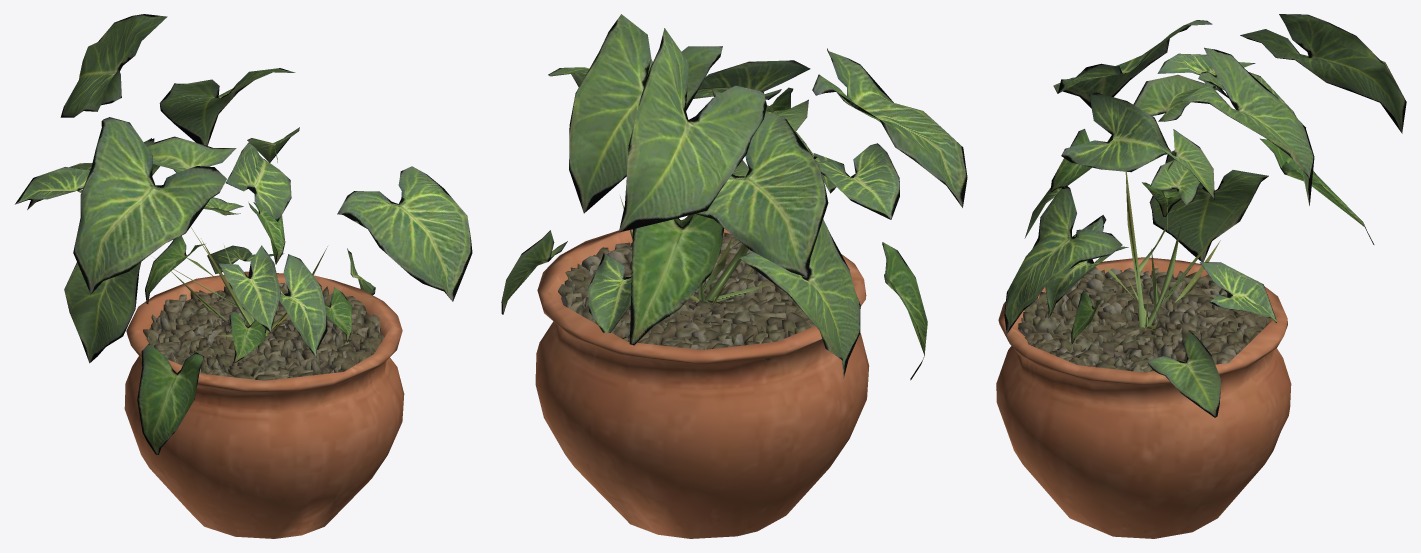
File: plante_syngonium.glb
The picture shows the model from 3 angles, left to right: view 1: azimuth 30°, elevation 25°; view 2: azimuth 150°, elevation 25°; view 3: azimuth 270°, elevation 25°; orthographic projection. The views are drawn at different scales.
Visible parts, largest first — view 1: potted_plant_02_leaves, potted_plant_02_pot, potted_plant_02_dirt; view 2: potted_plant_02_leaves, potted_plant_02_pot, potted_plant_02_dirt; view 3: potted_plant_02_leaves, potted_plant_02_pot, potted_plant_02_dirt.
Part boxes in pixels (x1,y1,x2,y2): potted_plant_02_leaves: (15, 14, 472, 454); potted_plant_02_pot: (124, 271, 404, 538); potted_plant_02_dirt: (143, 283, 383, 380); potted_plant_02_leaves: (501, 14, 967, 380); potted_plant_02_pot: (535, 228, 869, 538); potted_plant_02_dirt: (558, 232, 814, 360); potted_plant_02_leaves: (1004, 14, 1406, 417); potted_plant_02_pot: (996, 257, 1291, 538); potted_plant_02_dirt: (1018, 267, 1269, 372).
Bounding box in the file's own units: 0.7009 × 0.8395 × 0.6561.
2 materials, 2 textured.
